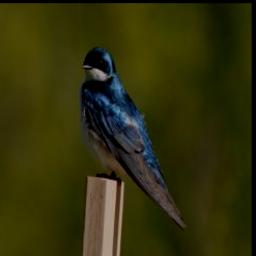Swallow: (78, 41, 188, 234)
